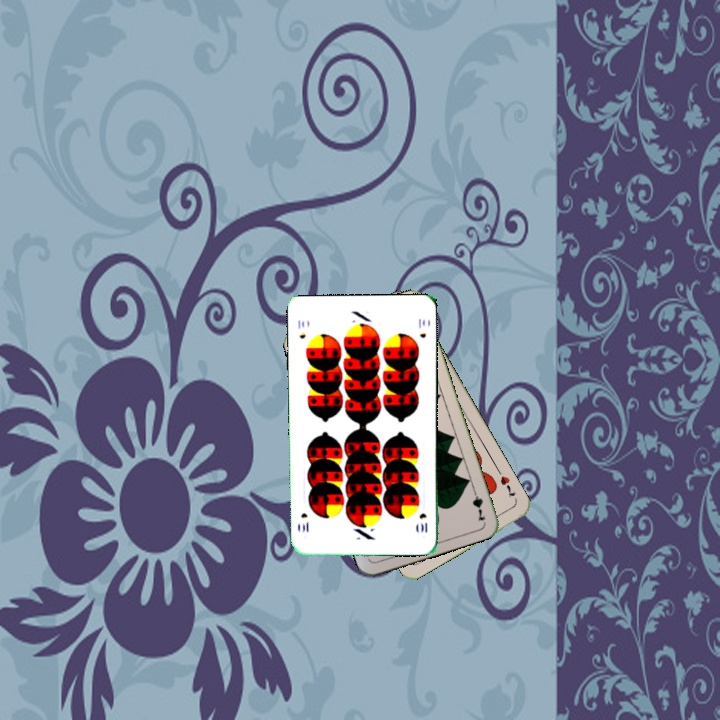G7: (468, 483, 488, 524)
H7: (496, 472, 518, 500)
S10: (416, 509, 430, 535), (294, 316, 308, 341)
